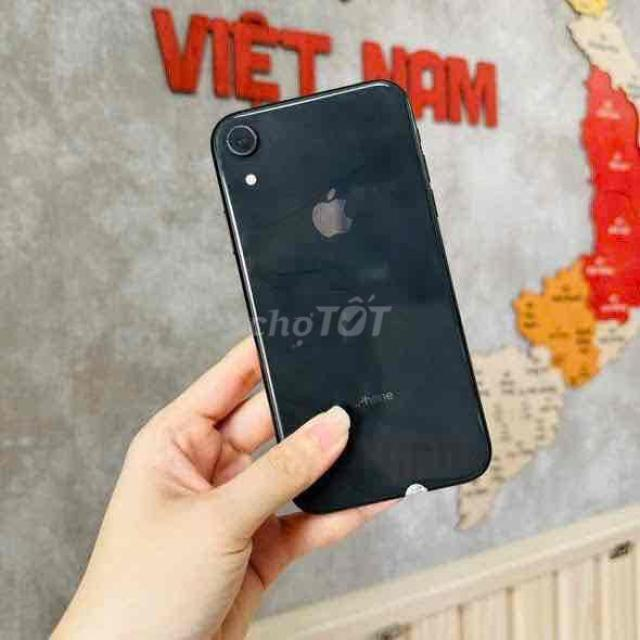gen_x_xs: (189, 64, 522, 532)
